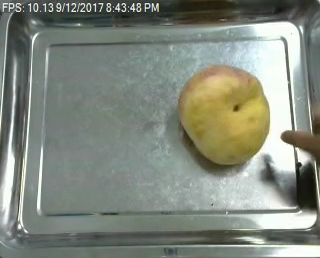Peach: (178, 63, 270, 166)
